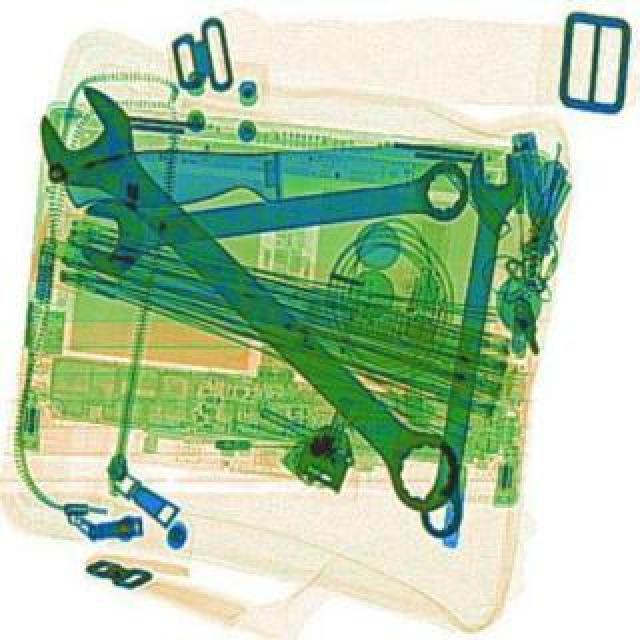knife: (60, 124, 504, 214)
scissors: (18, 76, 488, 528), (72, 150, 474, 278), (410, 148, 526, 542)
